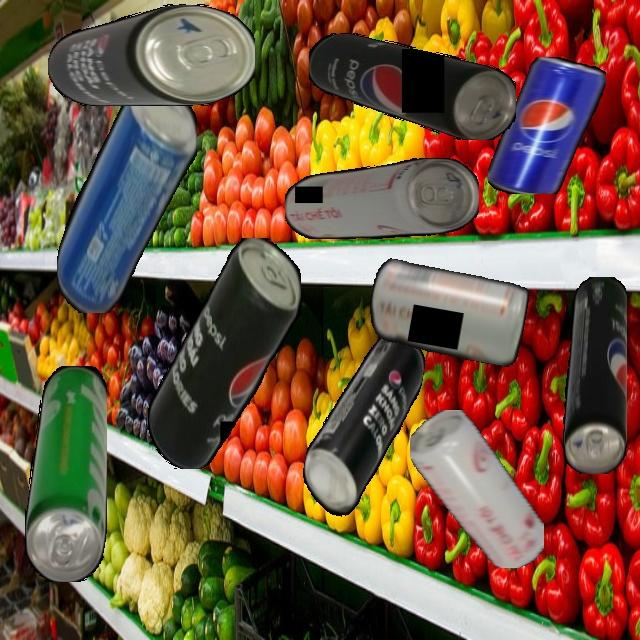debris: (147, 237, 301, 469), (56, 82, 197, 313), (296, 323, 429, 531), (308, 33, 516, 140), (409, 410, 544, 568), (47, 4, 255, 106), (364, 257, 531, 368), (24, 365, 107, 582), (488, 56, 606, 194), (284, 158, 479, 239), (562, 276, 627, 474)
